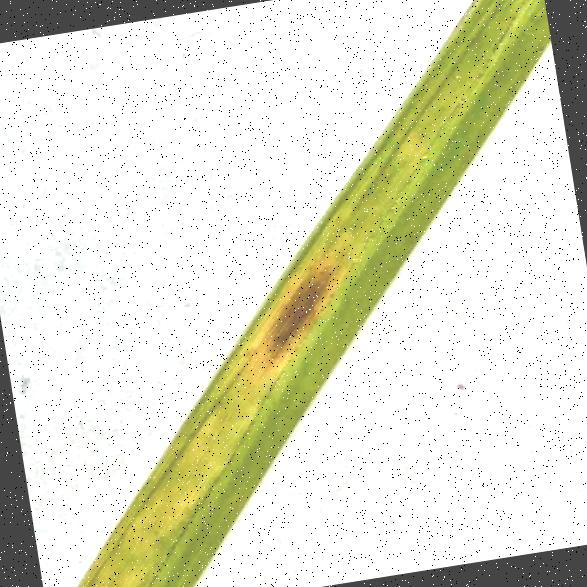Leaf_smut: (144, 239, 396, 448)
